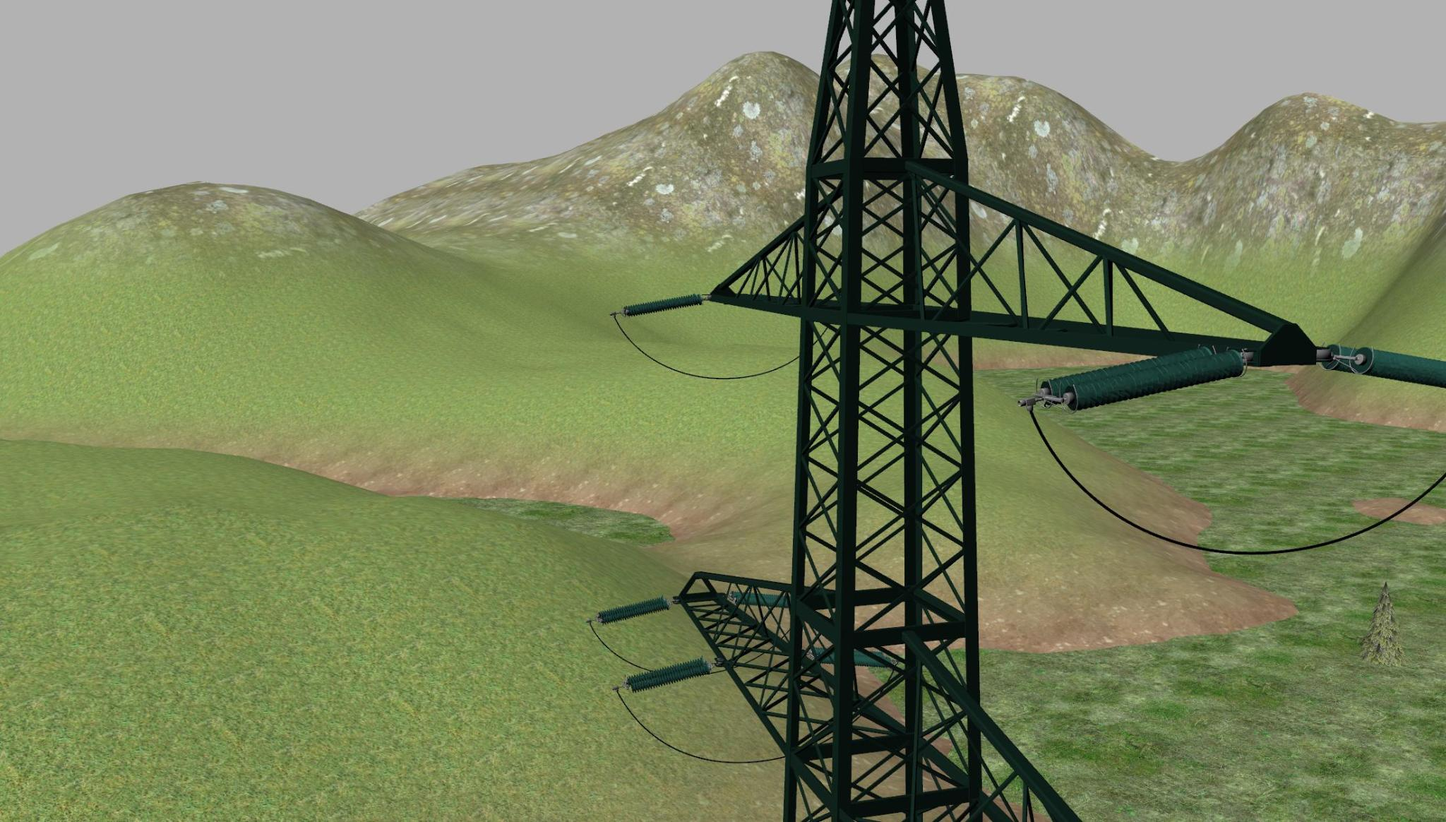tower: (673, 0, 1310, 822)
